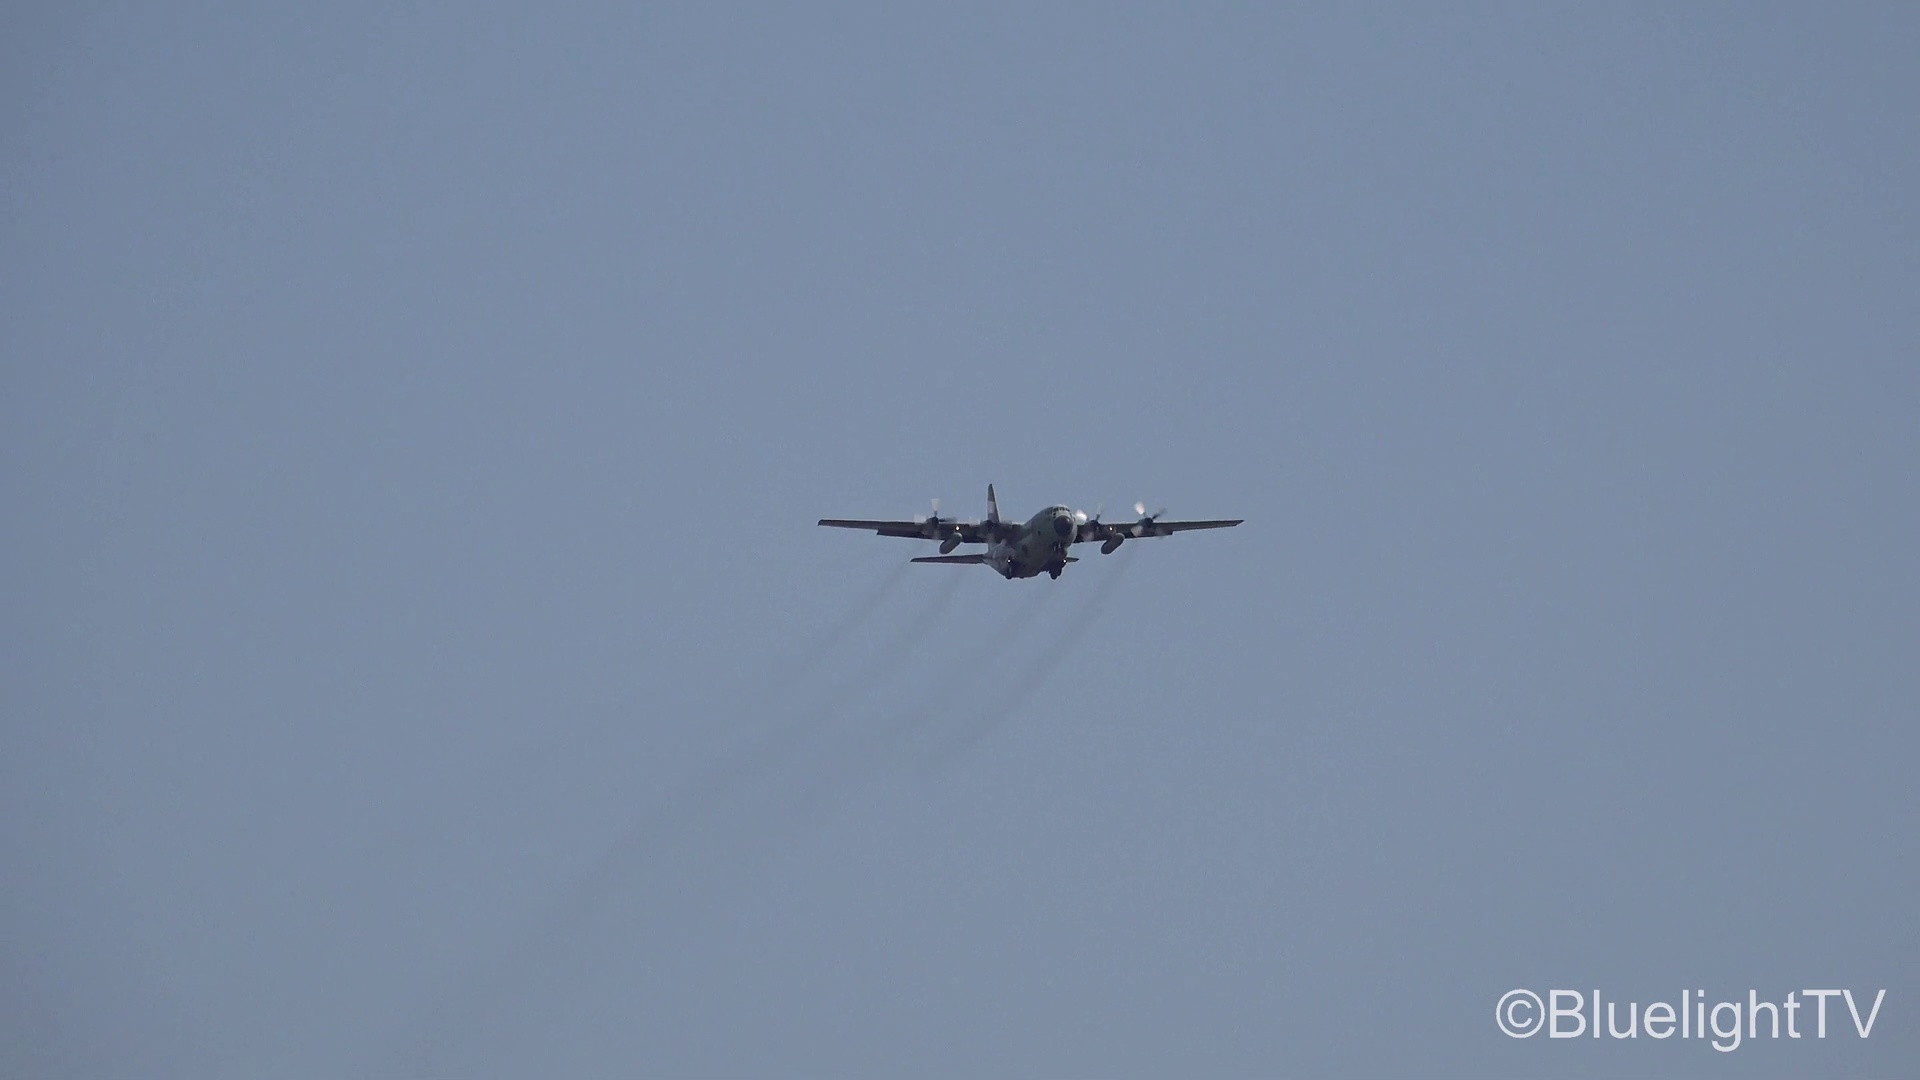Airplane: (819, 483, 1246, 588)
